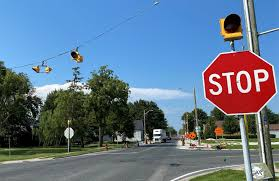sign_stop: (201, 49, 278, 116)
